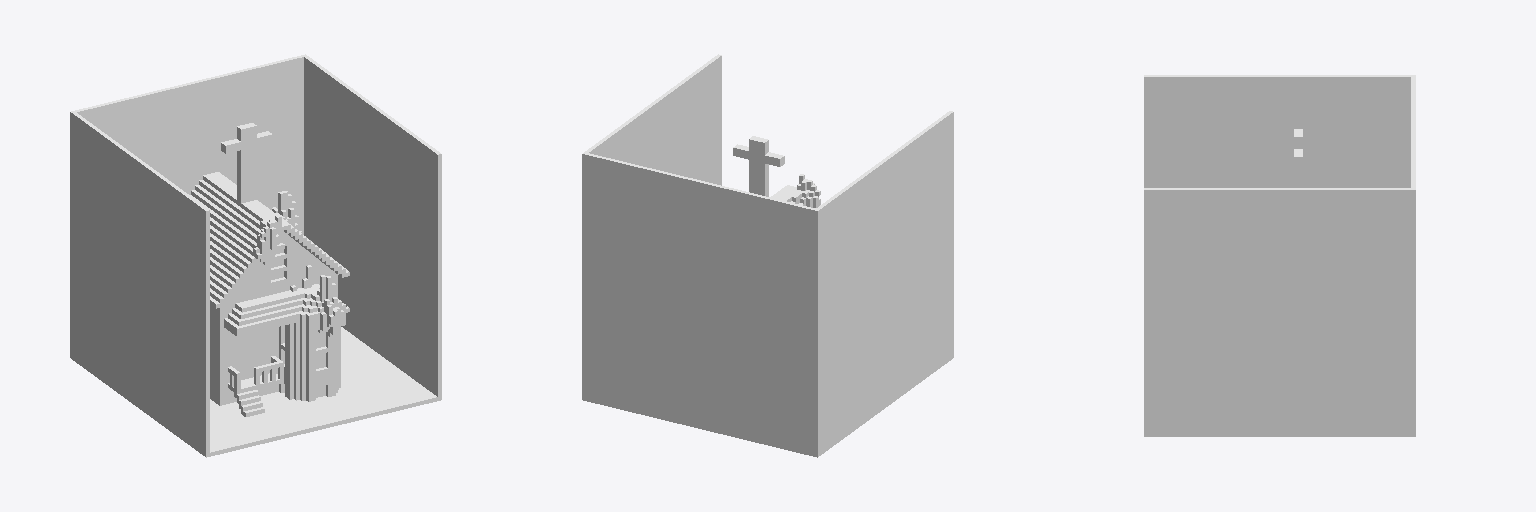
File: donda.obj
3 renders of one model, left to right at view 1: azimuth 30°, elevation 25°; view 2: azimuth 150°, elevation 25°; view 3: azimuth 270°, elevation 25°, orthographic.
Parts seen in each view (by area): view 1: object 1; view 2: object 1; view 3: object 1.
Part boxes in pixels (x1,y1,x2,y2): object 1: (70, 54, 441, 457); object 1: (582, 54, 953, 457); object 1: (1144, 75, 1415, 436).
Size of the model in its own units: 6 by 6 by 6.